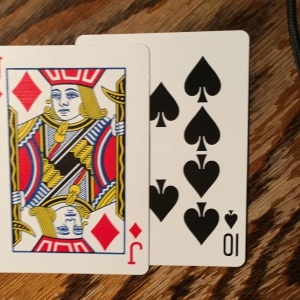card: (147, 31, 246, 269)
